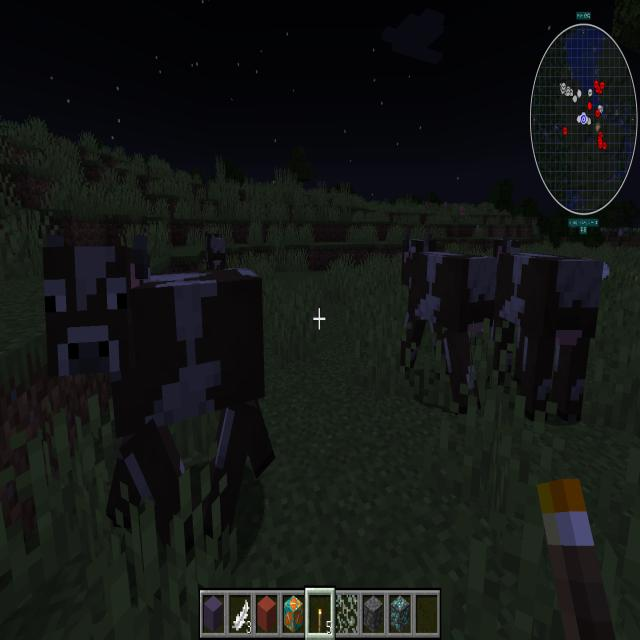cow: (30, 221, 281, 554), (384, 225, 517, 432), (488, 233, 594, 440), (202, 225, 231, 276)
